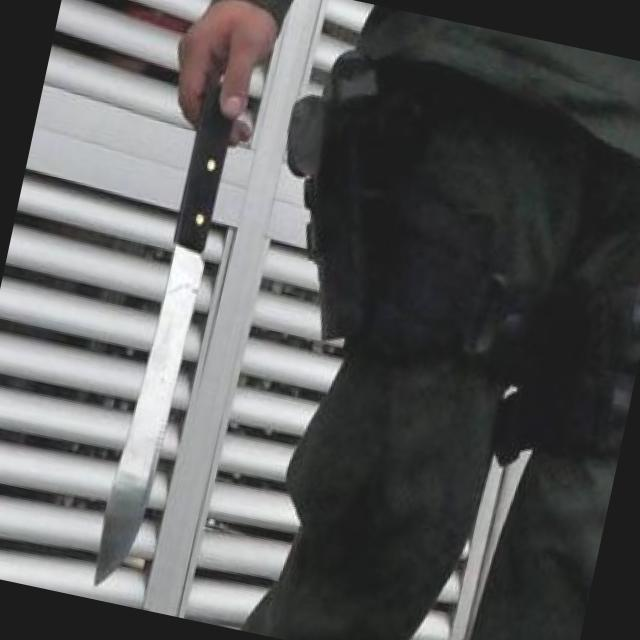knife: (56, 17, 269, 606)
